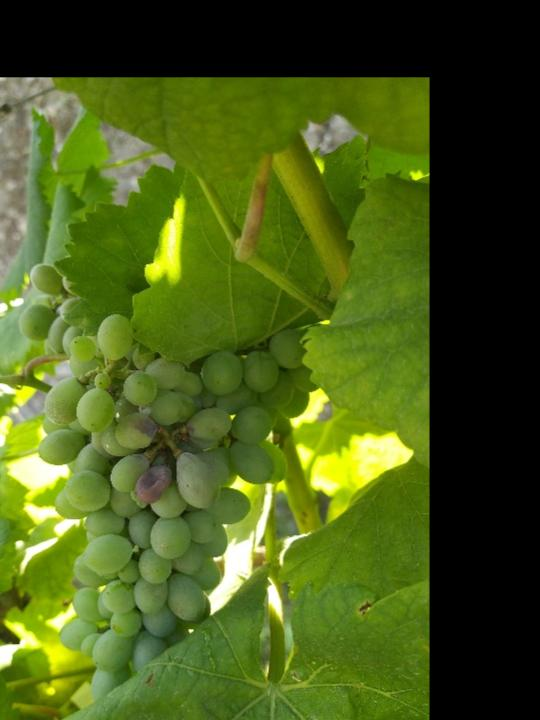grape: (20, 257, 318, 710)
